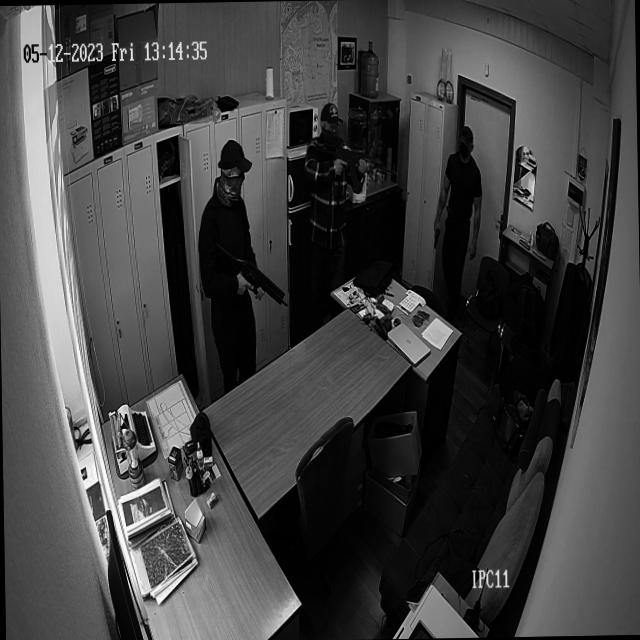gun: (208, 239, 286, 314), (315, 143, 396, 193), (432, 224, 442, 255)
person with a gun: (196, 134, 288, 349), (300, 96, 399, 258), (429, 122, 484, 268)
